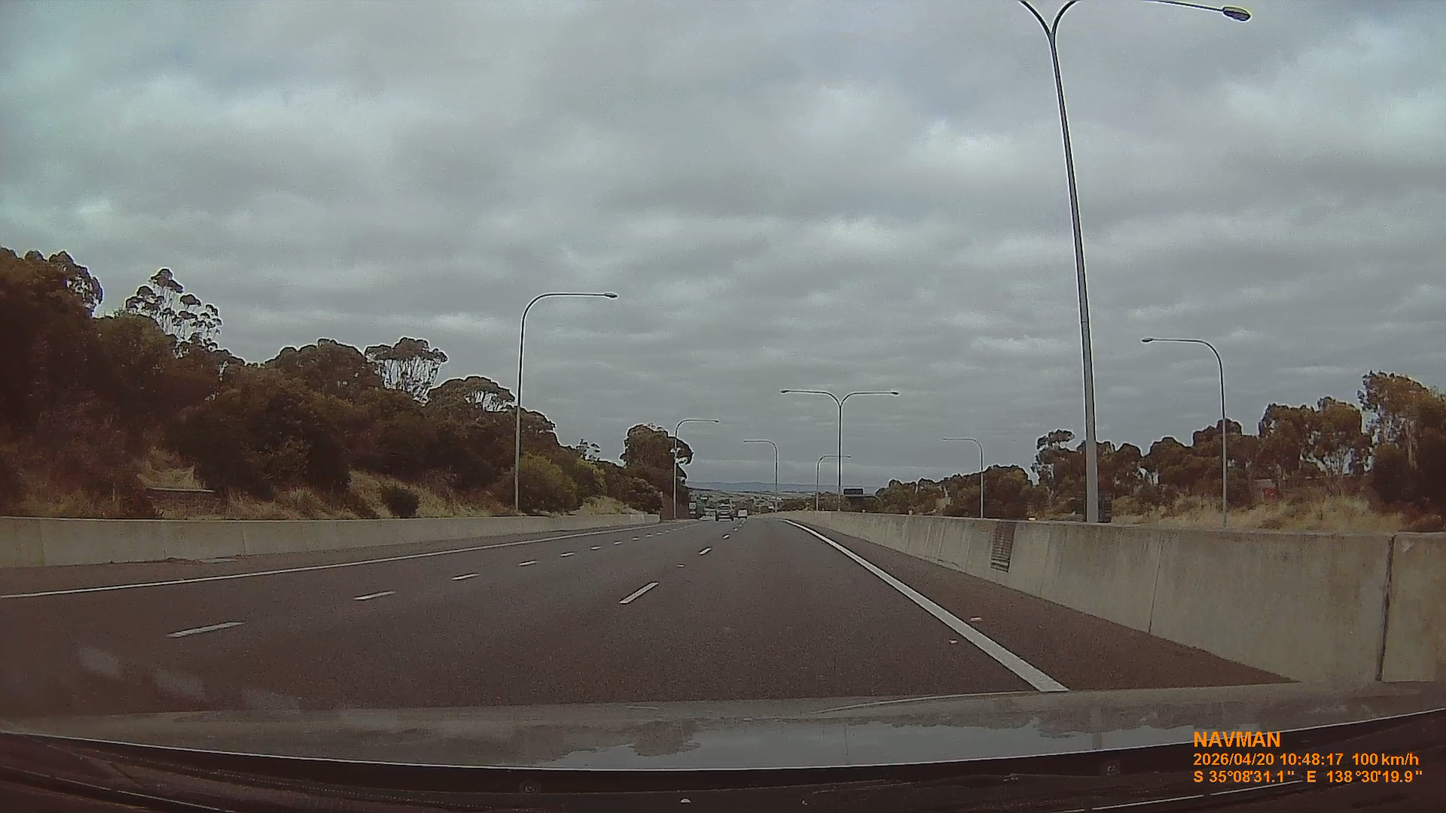road barriers: (792, 512, 1445, 684), (0, 515, 654, 568)
